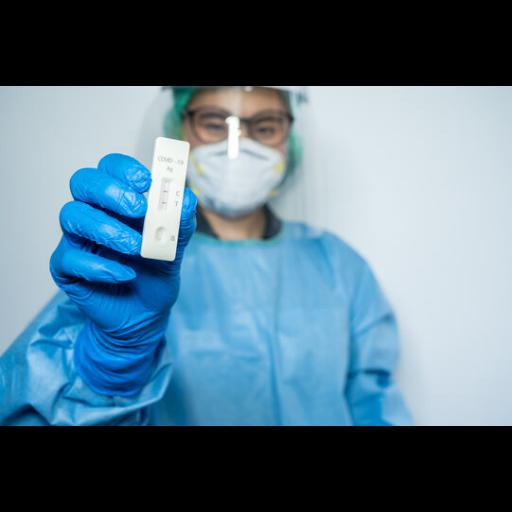Pos: (139, 135, 192, 261)
